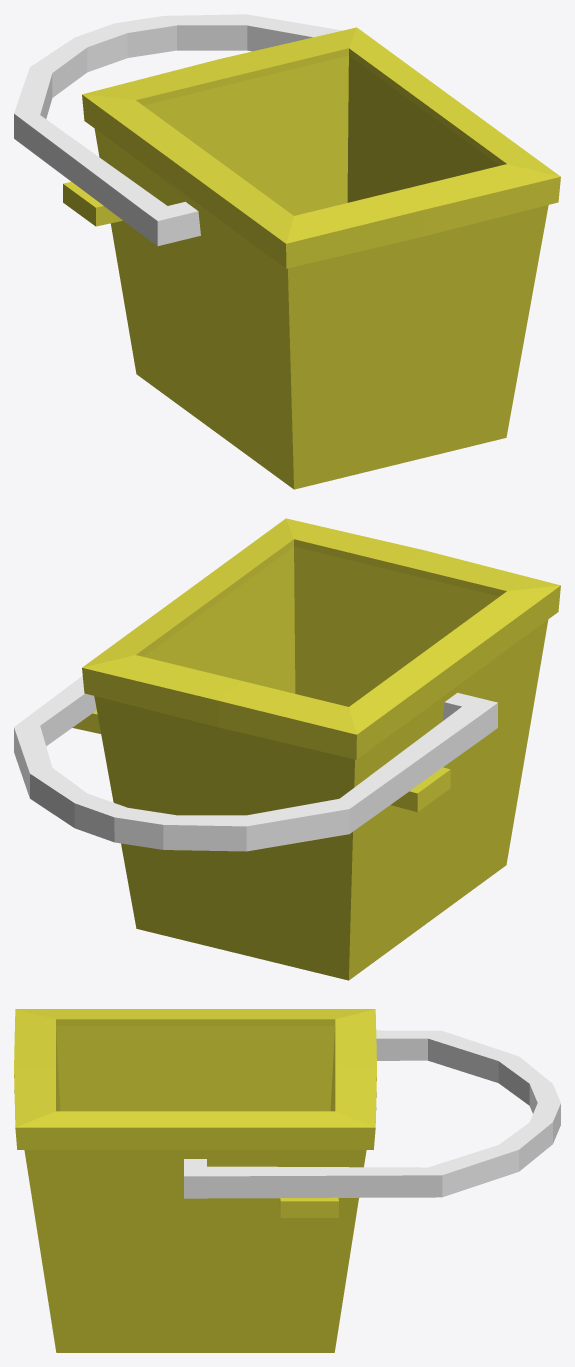
Rendered from Cleanbox.fbx.
3 renders of one model, top to bottom at view 1: azimuth 30°, elevation 25°; view 2: azimuth 150°, elevation 25°; view 3: azimuth 270°, elevation 25°, orthographic. The views are drawn at different scales.
Parts seen in each view (by area): view 1: CleanCube; view 2: CleanCube; view 3: CleanCube.
Part boxes in pixels (bbox=[...]): CleanCube: bbox=[14, 14, 560, 489]; CleanCube: bbox=[14, 518, 560, 980]; CleanCube: bbox=[14, 1009, 560, 1352].
Size of the model in its own units: 0.4665 by 0.7056 by 0.3442.
